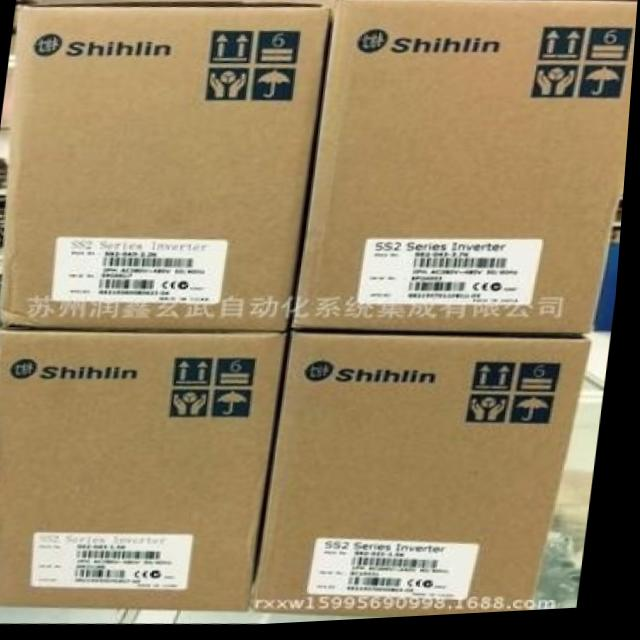box: (296, 0, 638, 341), (4, 1, 329, 334), (263, 337, 595, 621), (0, 329, 292, 613)
